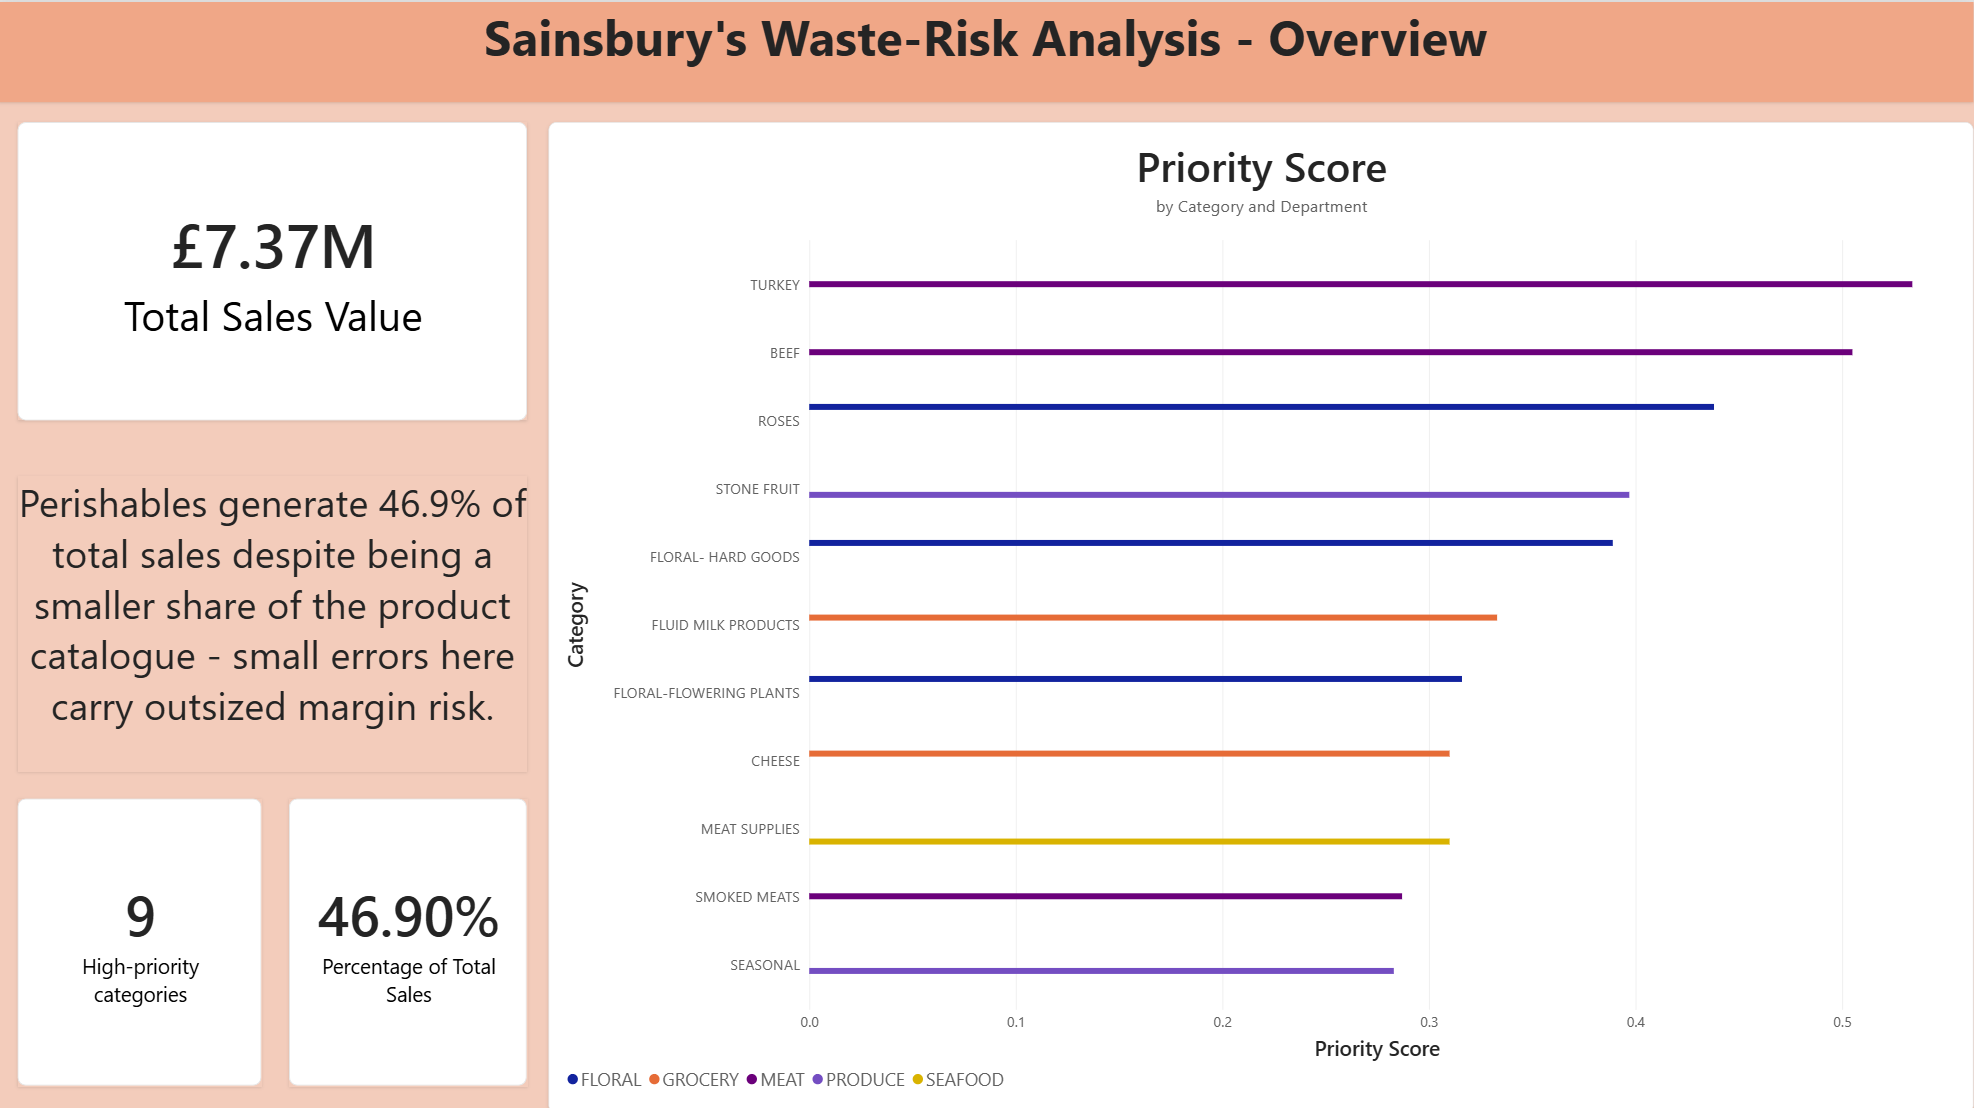

Layout of this report page (visuals, bound fields, positions):
{"tool":"powerbi","page":{"name":"Overview","canvas":[1920,1080],"ordinal":0},"visuals":[{"type":"cardVisual","fields":{"Data":["Sum(perishable_share.total_sales_value)"]},"box":[18.9,116.6,495.5,290],"z":0},{"type":"cardVisual","fields":{"Data":["perishable_share.Pct Perishable Decimal"]},"box":[282.8,773.9,231.7,279.8],"z":1000},{"type":"cardVisual","fields":{"Data":["priority_ranking.High Priority Count"]},"box":[18.9,773.9,237.6,279.8],"z":2000},{"type":"clusteredBarChart","fields":{"Category":["priority_ranking.commodity_desc"],"Series":["priority_ranking.department"],"Y":["Sum(priority_ranking.priority_score)"]},"box":[534.9,116.6,1384.6,963.4],"z":3000},{"type":"textbox","box":[18.9,460.6,495.5,287.1],"z":4000},{"type":"textbox","box":[0,0,1919.5,97.7],"z":5000}]}

Visuals, with their boxes in screenshot pixels (x1, y1, x2, y2), scaled from the page's 1920x1080 canvas onto the 1974x1108 screenshot:
cardVisual - Sum(perishable_share.total_sales_value): x1=19 y1=120 x2=529 y2=417
cardVisual - perishable_share.Pct Perishable Decimal: x1=291 y1=794 x2=529 y2=1081
cardVisual - priority_ranking.High Priority Count: x1=19 y1=794 x2=264 y2=1081
clusteredBarChart - priority_ranking.commodity_desc x priority_ranking.department: x1=550 y1=120 x2=1973 y2=1107
textbox: x1=19 y1=473 x2=529 y2=767
textbox: x1=0 y1=0 x2=1973 y2=100
